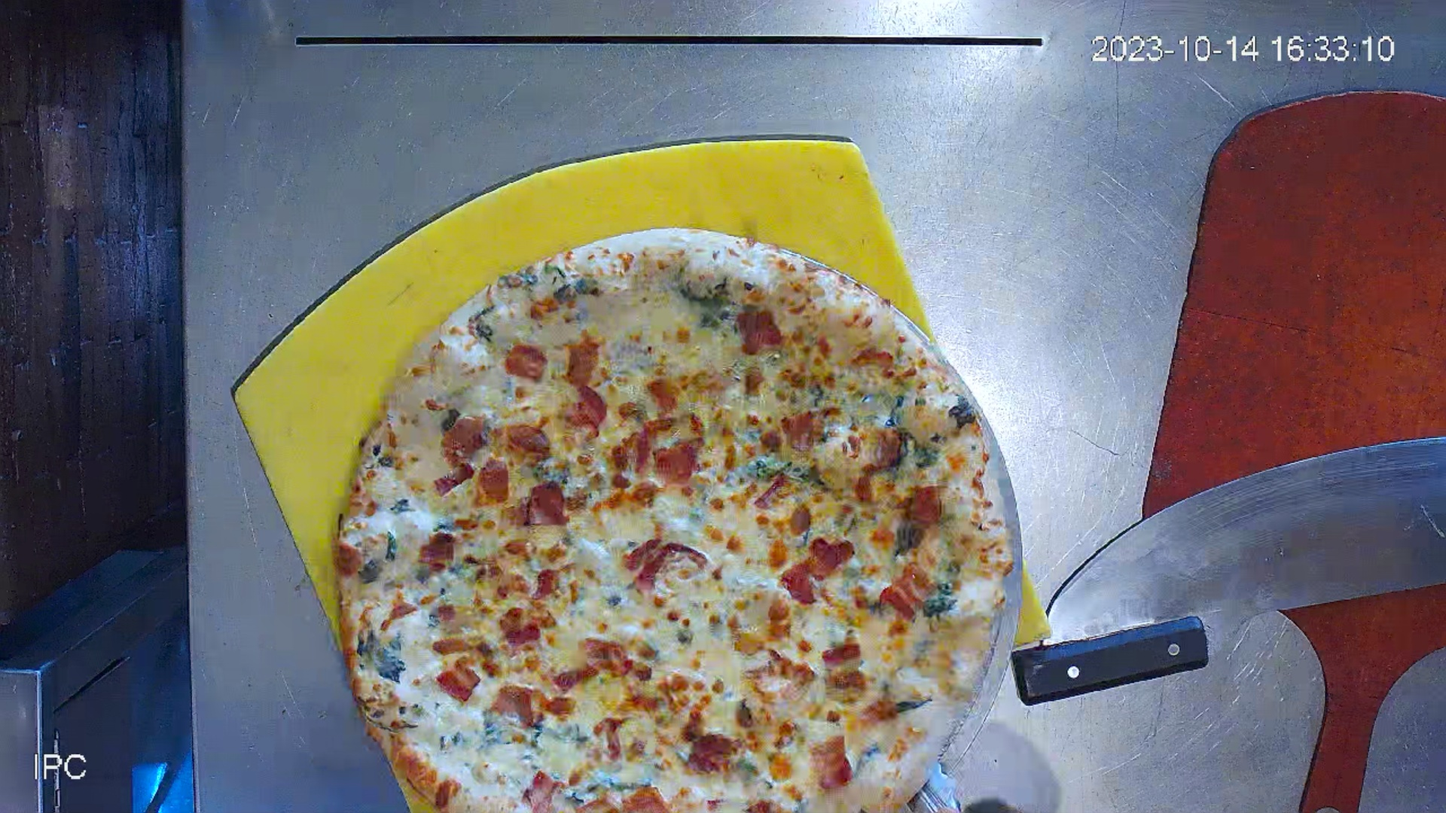bianca: (331, 216, 1024, 810)
